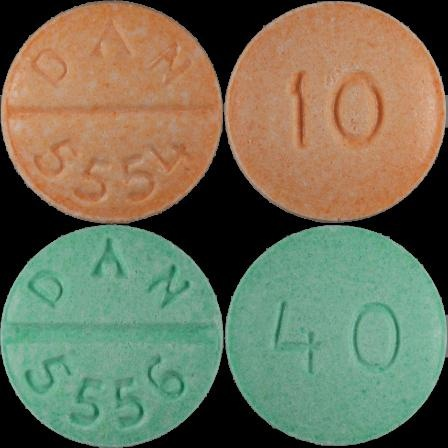0591-5554: (0, 0, 224, 224)
